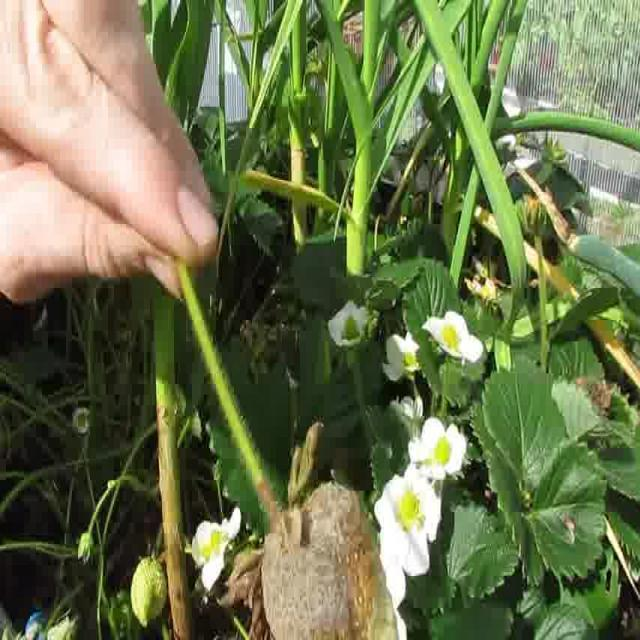Moho gris: (255, 476, 404, 640)
